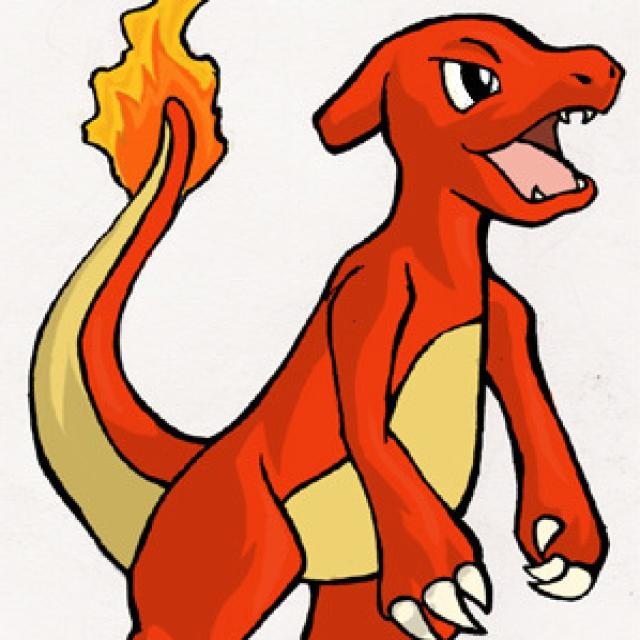Charmeleon: (130, 15, 617, 640)
